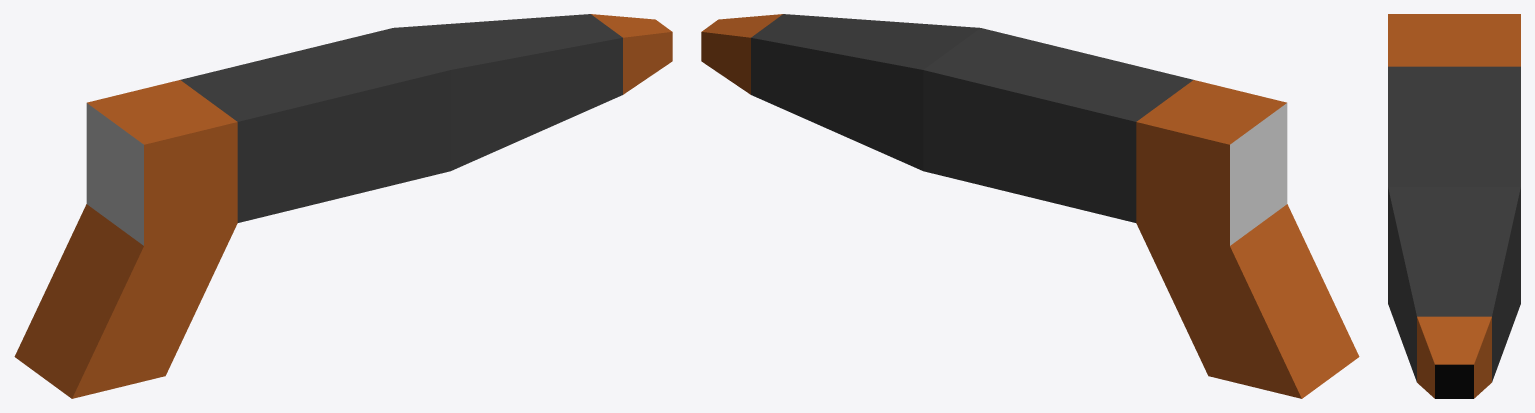
Rendered from gun_prot.fbx.
3 views of the same model, side by side, from view 1: azimuth 30°, elevation 25°; view 2: azimuth 150°, elevation 25°; view 3: azimuth 270°, elevation 25° (orthographic). The views are drawn at different scales.
Parts seen in each view (by area): view 1: Cube; view 2: Cube; view 3: Cube.
Boxes of the visible parts, x1=… form: Cube: x1=14, y1=14, x2=672, y2=398; Cube: x1=701, y1=14, x2=1359, y2=398; Cube: x1=1388, y1=14, x2=1520, y2=398.
Bounding box in the file's own units: 191 × 69.67 × 30.71.
